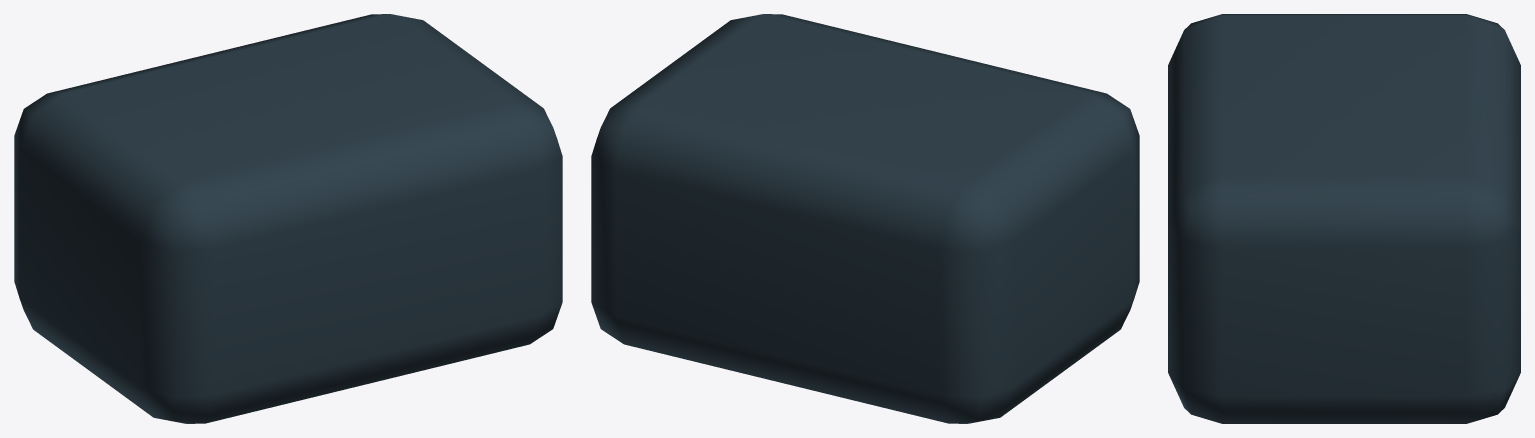
Rendered from rider_pelvis.glb.
The picture shows the model from 3 angles, left to right: view 1: azimuth 30°, elevation 25°; view 2: azimuth 150°, elevation 25°; view 3: azimuth 270°, elevation 25°; orthographic projection.
Visible parts, largest first — view 1: Shorts; view 2: Shorts; view 3: Shorts.
Boxes of the visible parts, x1=… form: Shorts: x1=14, y1=14, x2=562, y2=423; Shorts: x1=591, y1=14, x2=1139, y2=423; Shorts: x1=1168, y1=14, x2=1520, y2=423.
Size of the model in its own units: 0.54 by 0.3 by 0.39.
